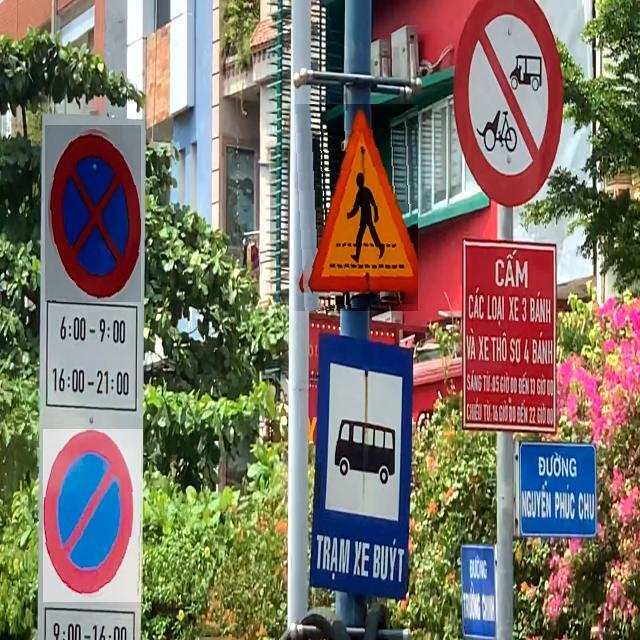P-130: (45, 125, 141, 302)
P-131a: (43, 429, 143, 602)
W-224: (294, 104, 418, 311)
